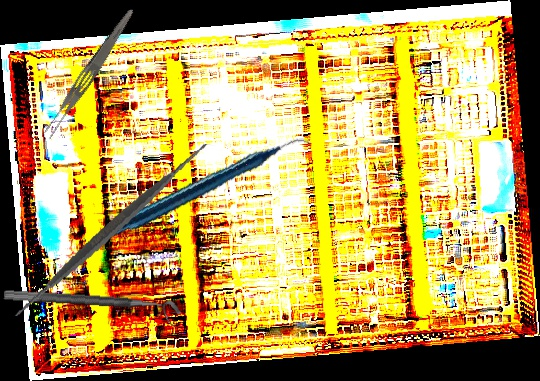Dressing Forceps: (39, 3, 138, 143)
Fixation Ring: (2, 288, 182, 328)
Handpiece: (109, 108, 312, 267)
Spatula Surgical: (0, 118, 223, 342)
